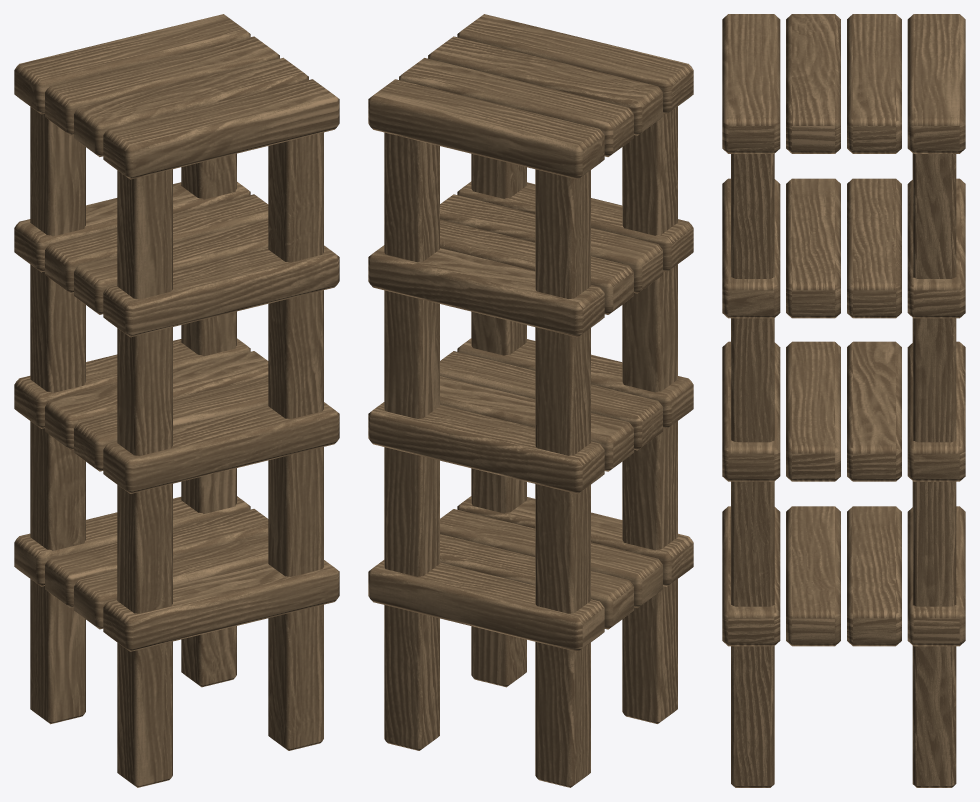
File: cupboard_021.fbx
The picture shows the model from 3 angles, left to right: view 1: azimuth 30°, elevation 25°; view 2: azimuth 150°, elevation 25°; view 3: azimuth 270°, elevation 25°; orthographic projection. The views are drawn at different scales.
Parts seen in each view (by area): view 1: cupboard_021; view 2: cupboard_021; view 3: cupboard_021.
Part boxes in pixels (x1,y1,x2,y2): cupboard_021: (14, 14, 339, 787); cupboard_021: (368, 14, 693, 787); cupboard_021: (722, 14, 965, 787).
Size of the model in its own units: 73.22 by 69.09 by 212.
